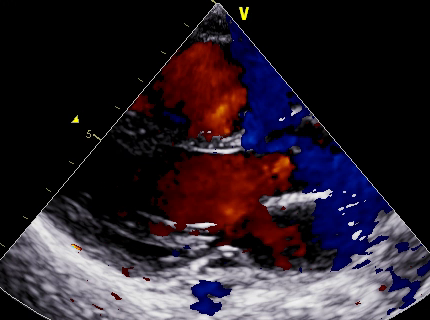AR: (160, 145, 294, 221)
